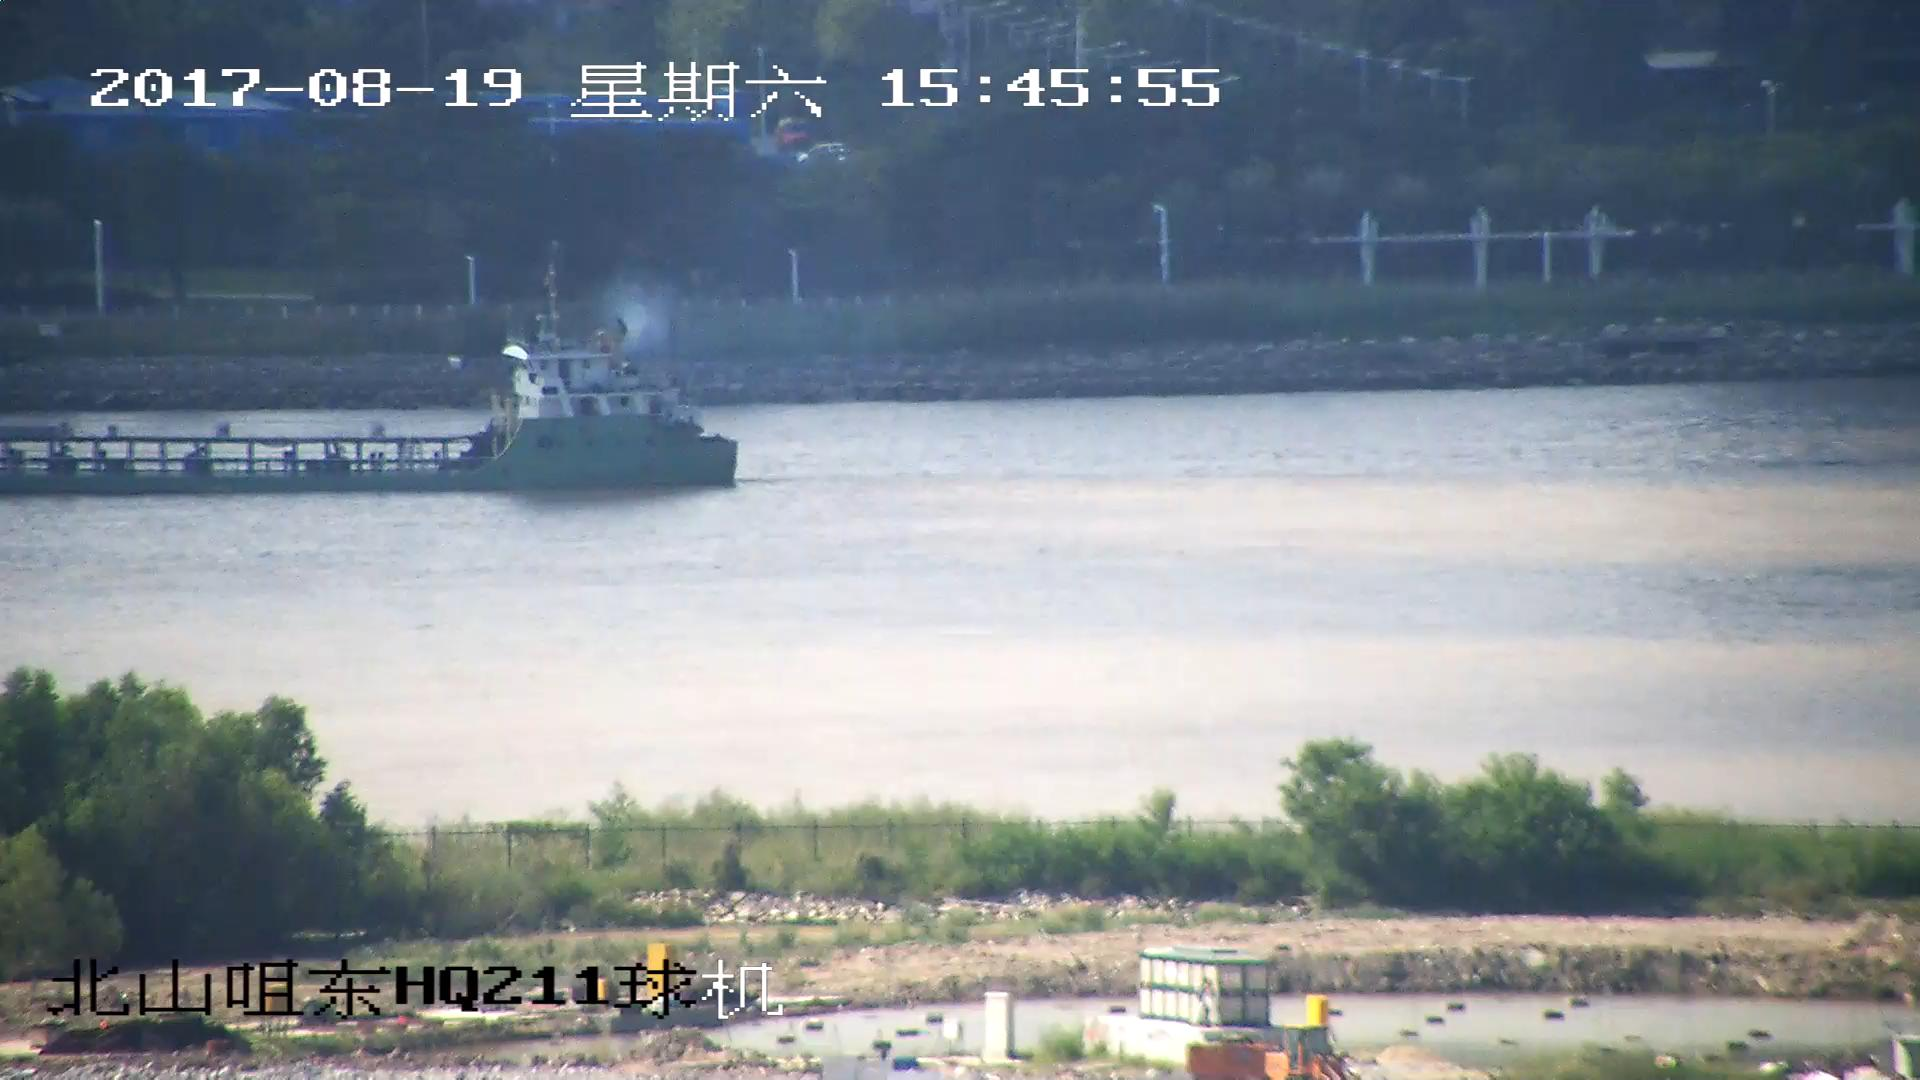general cargo ship: (1, 273, 739, 488)
